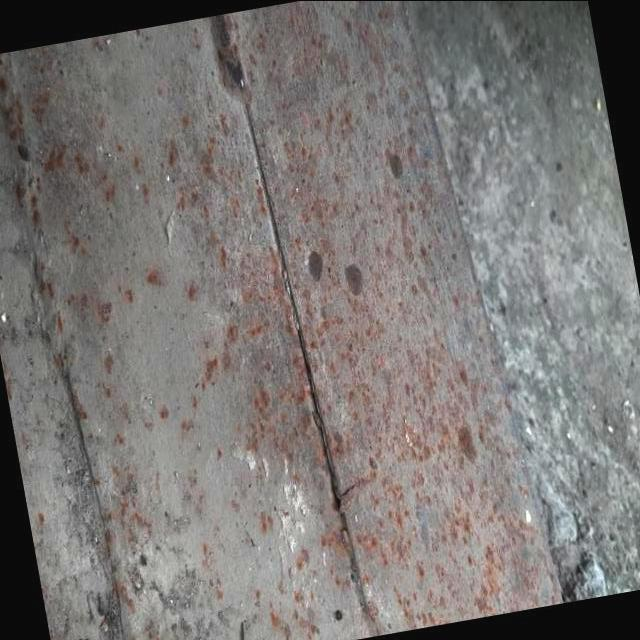defect: (291, 299, 362, 526)
